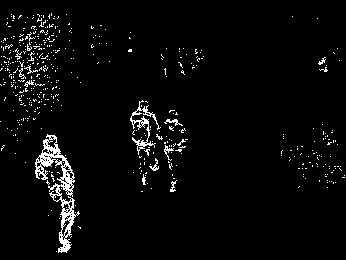person: (34, 132, 77, 253), (130, 98, 161, 190), (157, 107, 188, 192)
